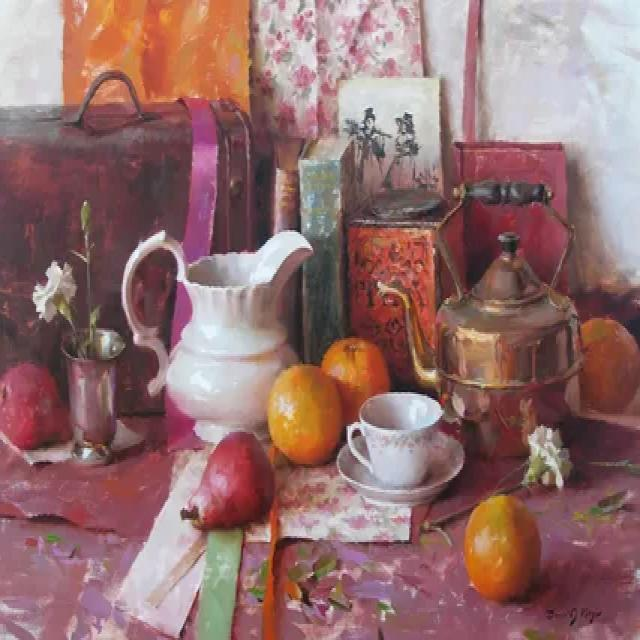orange: (459, 482, 548, 615), (269, 358, 343, 472)
